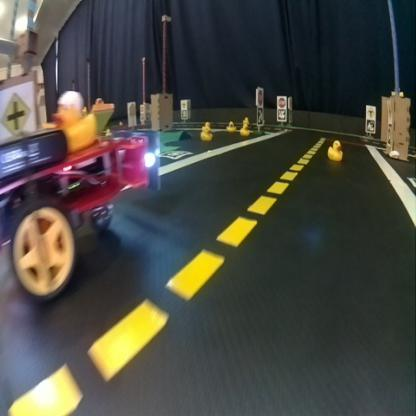Duckie: (53, 95, 93, 144), (328, 140, 342, 160), (200, 126, 212, 140), (240, 124, 249, 134), (242, 117, 248, 124), (204, 121, 210, 128)
Duckiebot: (2, 128, 156, 284)
Intersection sign: (0, 88, 33, 136), (366, 106, 375, 118)
QR code: (160, 150, 191, 158), (256, 107, 262, 124), (277, 108, 285, 120), (366, 119, 374, 131)
Stop sign: (256, 88, 263, 104), (278, 95, 286, 107)
